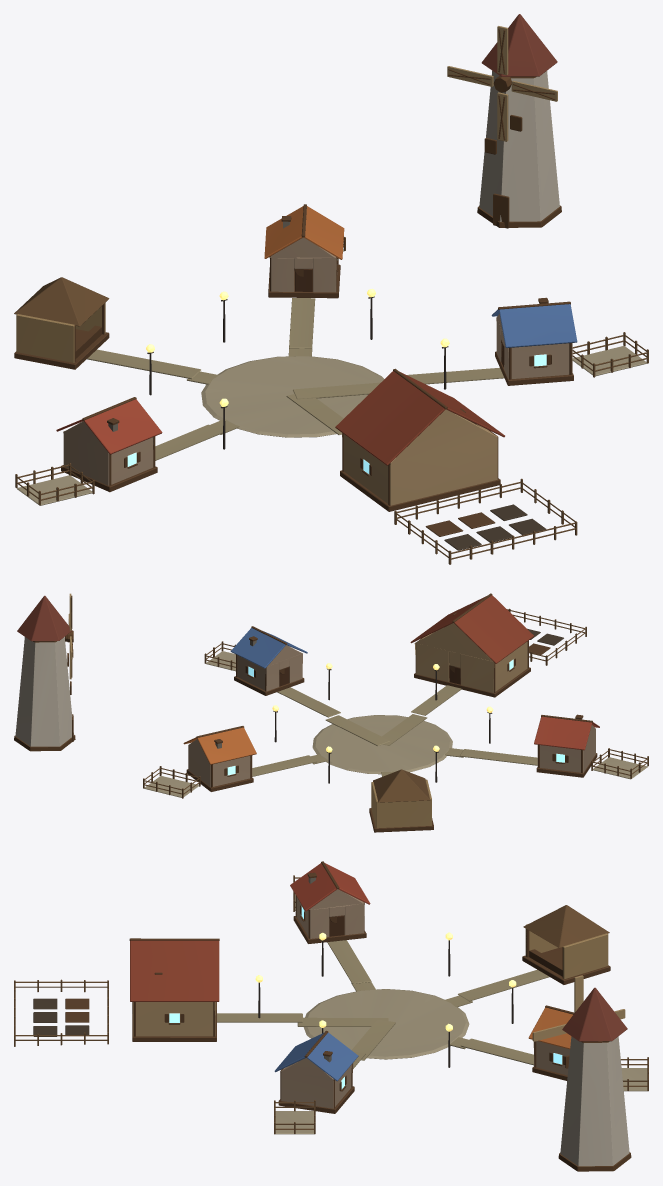
Rendered from village.glb.
3 renders of one model, top to bottom at view 1: azimuth 30°, elevation 25°; view 2: azimuth 150°, elevation 25°; view 3: azimuth 270°, elevation 25°, orthographic. The views are drawn at different scales.
Visible parts, largest first — view 1: village_part_0, village_part_4; view 2: village_part_0, village_part_4; view 3: village_part_0, village_part_4.
Part boxes in pixels (bbox=[...]): village_part_0: bbox=[14, 14, 648, 564]; village_part_4: bbox=[447, 26, 557, 141]; village_part_0: bbox=[14, 593, 648, 832]; village_part_4: bbox=[67, 593, 73, 679]; village_part_0: bbox=[14, 861, 648, 1171]; village_part_4: bbox=[532, 975, 625, 1041].
Size of the model in its own units: 51.25 by 14.97 by 47.65.
